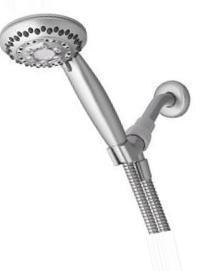Ducha: (0, 13, 199, 240)
